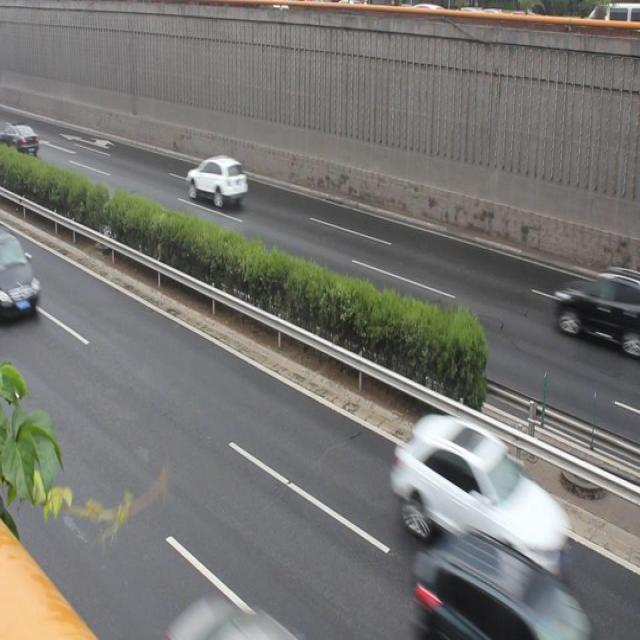car: (387, 413, 564, 562), (410, 531, 594, 640), (547, 270, 640, 351), (186, 153, 249, 213)
truck: (1, 225, 44, 330)
